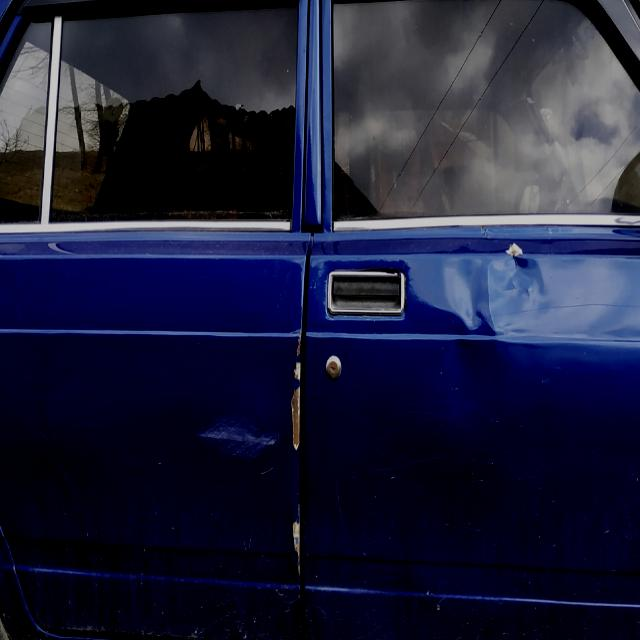Cabossage: (410, 240, 555, 418)
Rayure: (287, 327, 308, 588)
